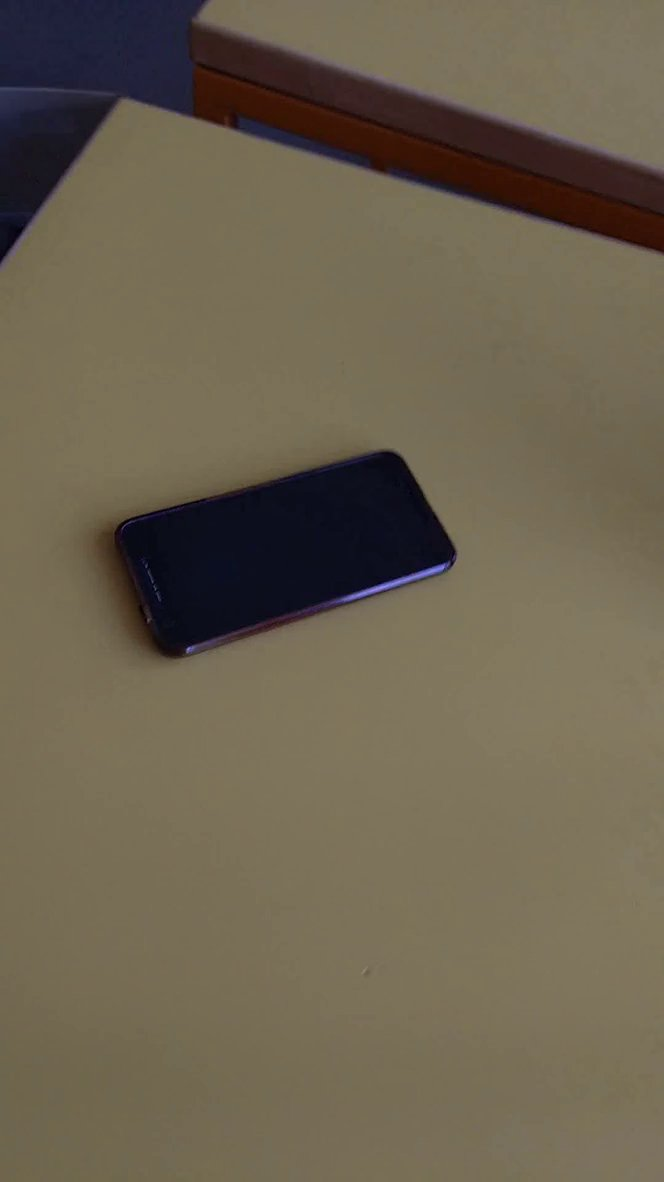phone: (103, 429, 468, 670)
